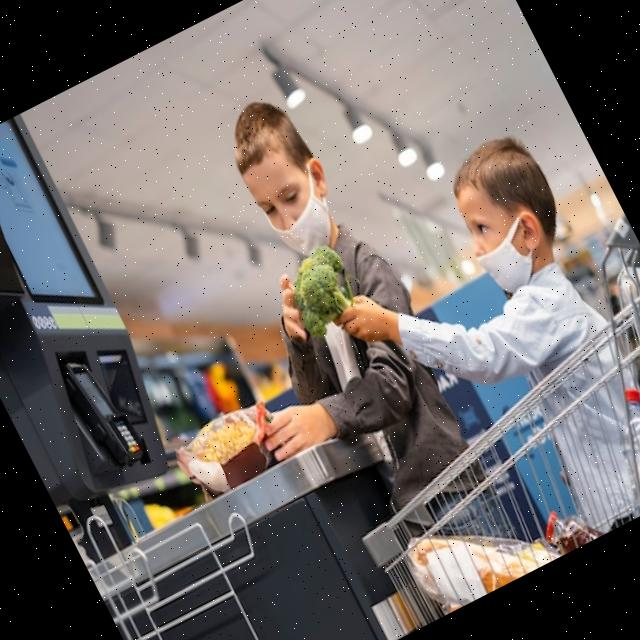Person: (122, 75, 533, 622), (295, 120, 640, 597)
